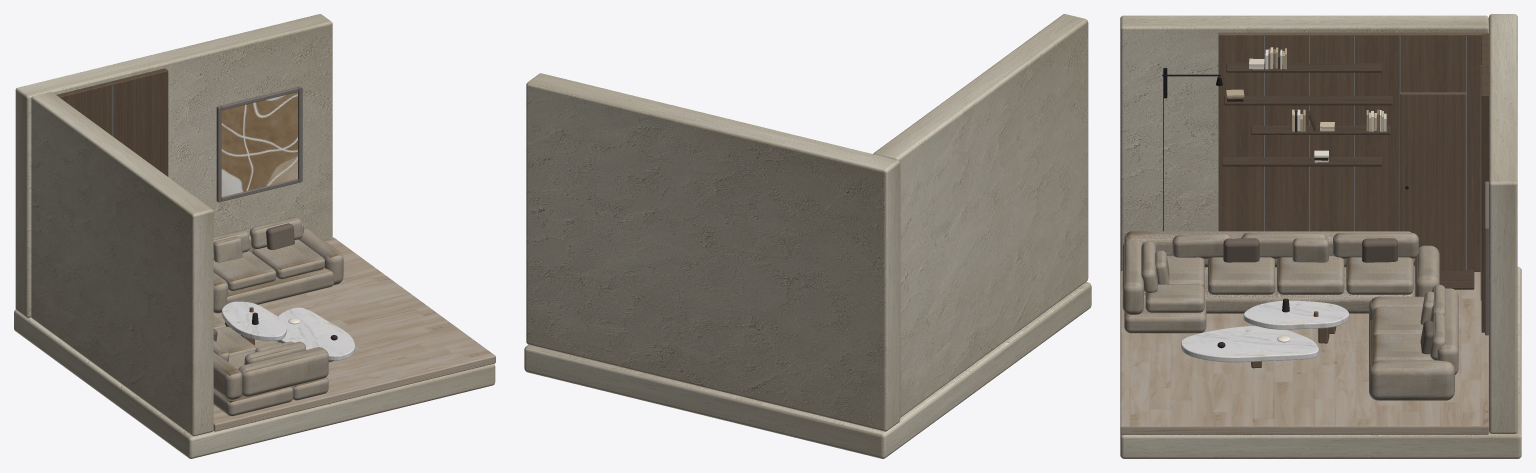
File: livingroom-v2.glb
3 renders of one model, left to right at view 1: azimuth 30°, elevation 25°; view 2: azimuth 150°, elevation 25°; view 3: azimuth 270°, elevation 25°, orthographic. The views are drawn at different scales.
Visible parts, largest first — view 1: WallLeft, WallBack, Floor, Plinth, Loveseat, ArtPrint, CabinetPanels, ChaiseBack, TableFrontTop, LoveBase, WallArt, TableRearTop (+5 smaller); view 2: WallBack, WallLeft, Plinth; view 3: OakPanel, Floor, WallLeft, WallBack, Plinth, ConcealedDoor, Loveseat, TableFrontTop, RunBase, TableRearTop, SeatCushion2, SeatCushion1 (+27 smaller).
Boxes of the visible parts, bbox=[...] form: WallLeft: bbox=[31, 92, 213, 436]; WallBack: bbox=[15, 14, 332, 317]; Floor: bbox=[213, 237, 495, 431]; Plinth: bbox=[14, 309, 495, 458]; Loveseat: bbox=[213, 217, 343, 313]; ArtPrint: bbox=[221, 92, 297, 196]; CabinetPanels: bbox=[56, 68, 168, 176]; ChaiseBack: bbox=[238, 347, 328, 396]; TableFrontTop: bbox=[276, 307, 354, 360]; LoveBase: bbox=[226, 267, 333, 304]; WallArt: bbox=[216, 86, 302, 202]; TableRearTop: bbox=[221, 301, 286, 340]; WallBack: bbox=[526, 73, 900, 431]; WallLeft: bbox=[873, 14, 1088, 417]; Plinth: bbox=[524, 282, 1091, 458]; OakPanel: bbox=[1218, 32, 1487, 271]; Floor: bbox=[1120, 271, 1488, 434]; WallLeft: bbox=[1120, 15, 1488, 271]; WallBack: bbox=[1489, 14, 1517, 433]; Plinth: bbox=[1120, 267, 1521, 458]; ConcealedDoor: bbox=[1400, 94, 1465, 270]; Loveseat: bbox=[1369, 284, 1458, 400]; TableFrontTop: bbox=[1181, 325, 1318, 362]; RunBase: bbox=[1144, 265, 1415, 313]; TableRearTop: bbox=[1243, 300, 1349, 329]; SeatCushion2: bbox=[1277, 256, 1344, 294]; SeatCushion1: bbox=[1346, 257, 1413, 294].
Bounding box in the file's own units: 4.9 × 3.74 × 4.9.
25 materials, 10 textured.
